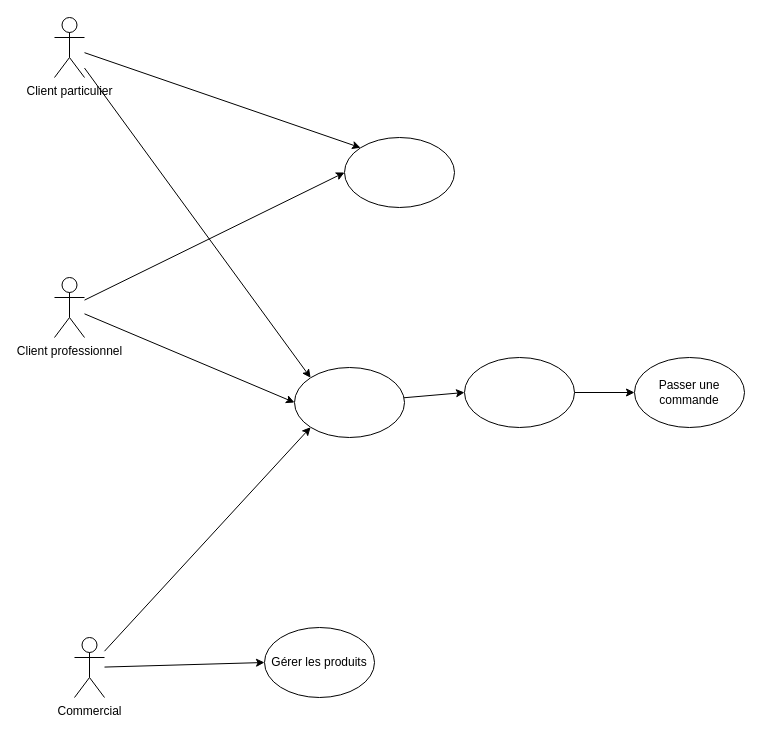
Some shapes in this 762 by 736 pixel diagram are drawn without their labels. The centre of each missing label's shape, as x and y in pixels:
"Consulter le catalogue" belongs at (x=349, y=402).
"Créer un compte" belongs at (x=399, y=172).
"Gérer le panier (ajout/retirer produit)" belongs at (x=519, y=392).
